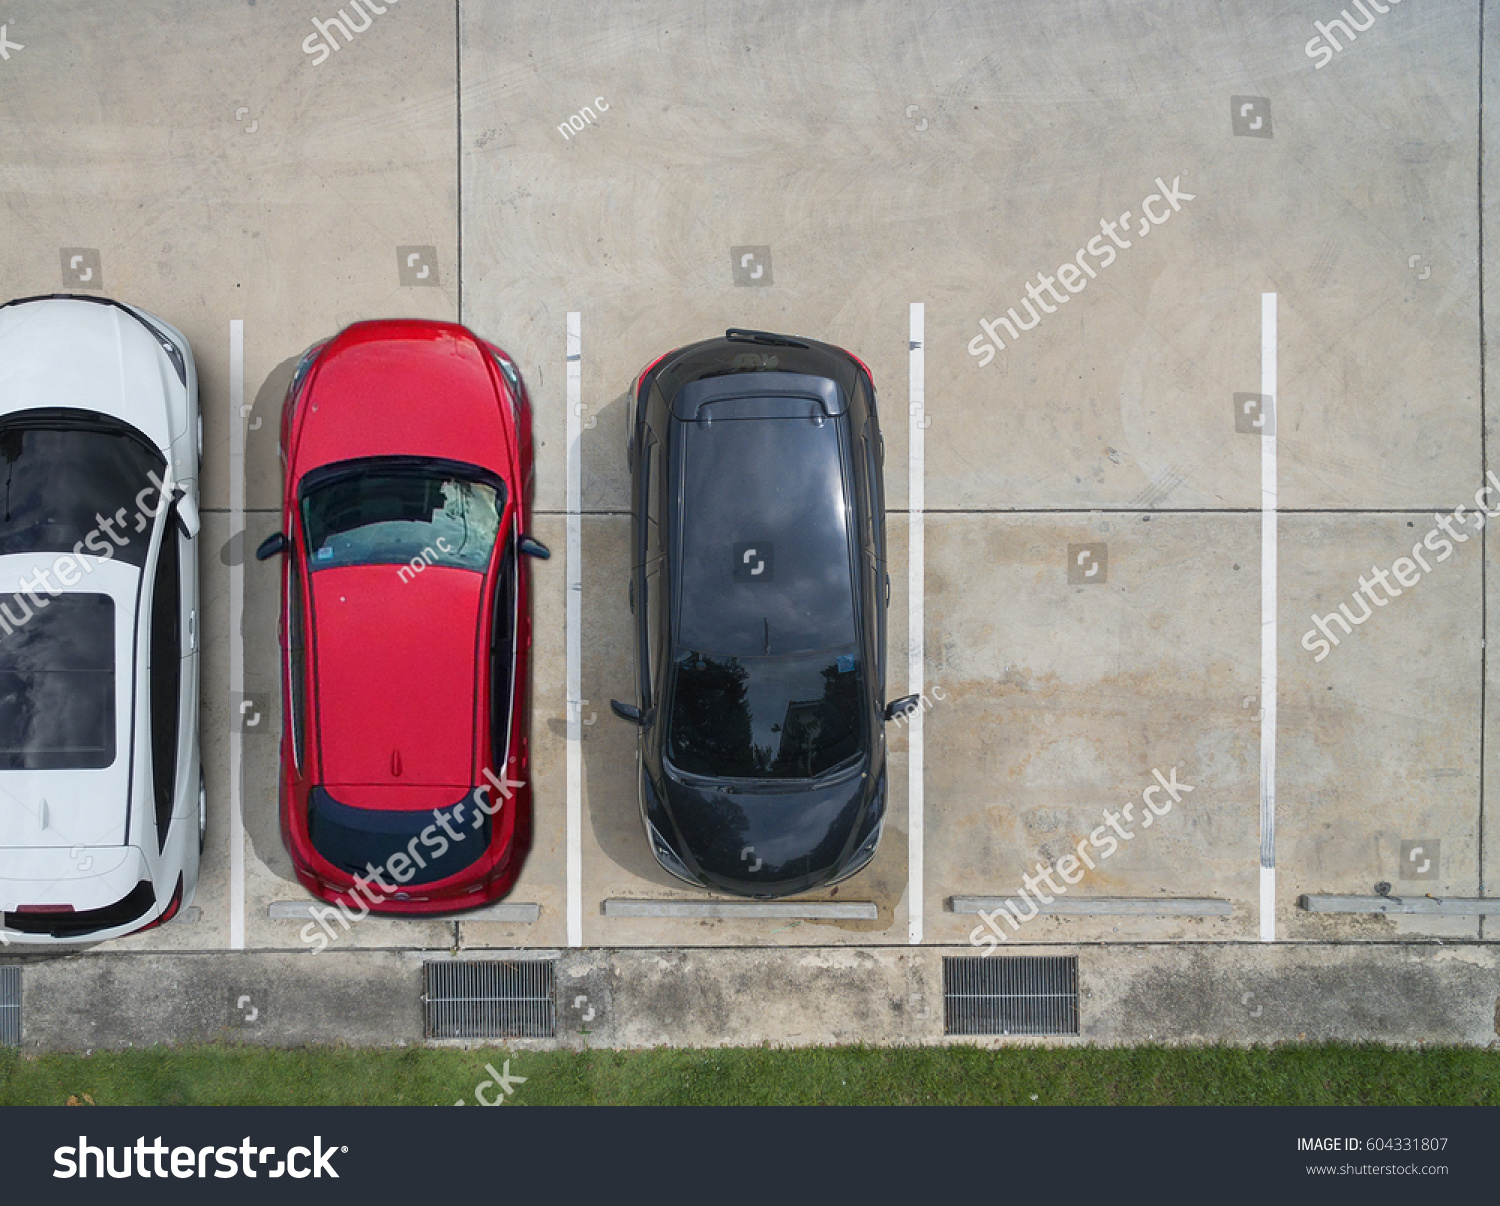Car: (265, 311, 545, 918), (614, 324, 892, 902), (1, 293, 214, 957)
LaneMark: (226, 315, 249, 955), (906, 300, 925, 944), (1259, 293, 1277, 948), (566, 311, 584, 949)
